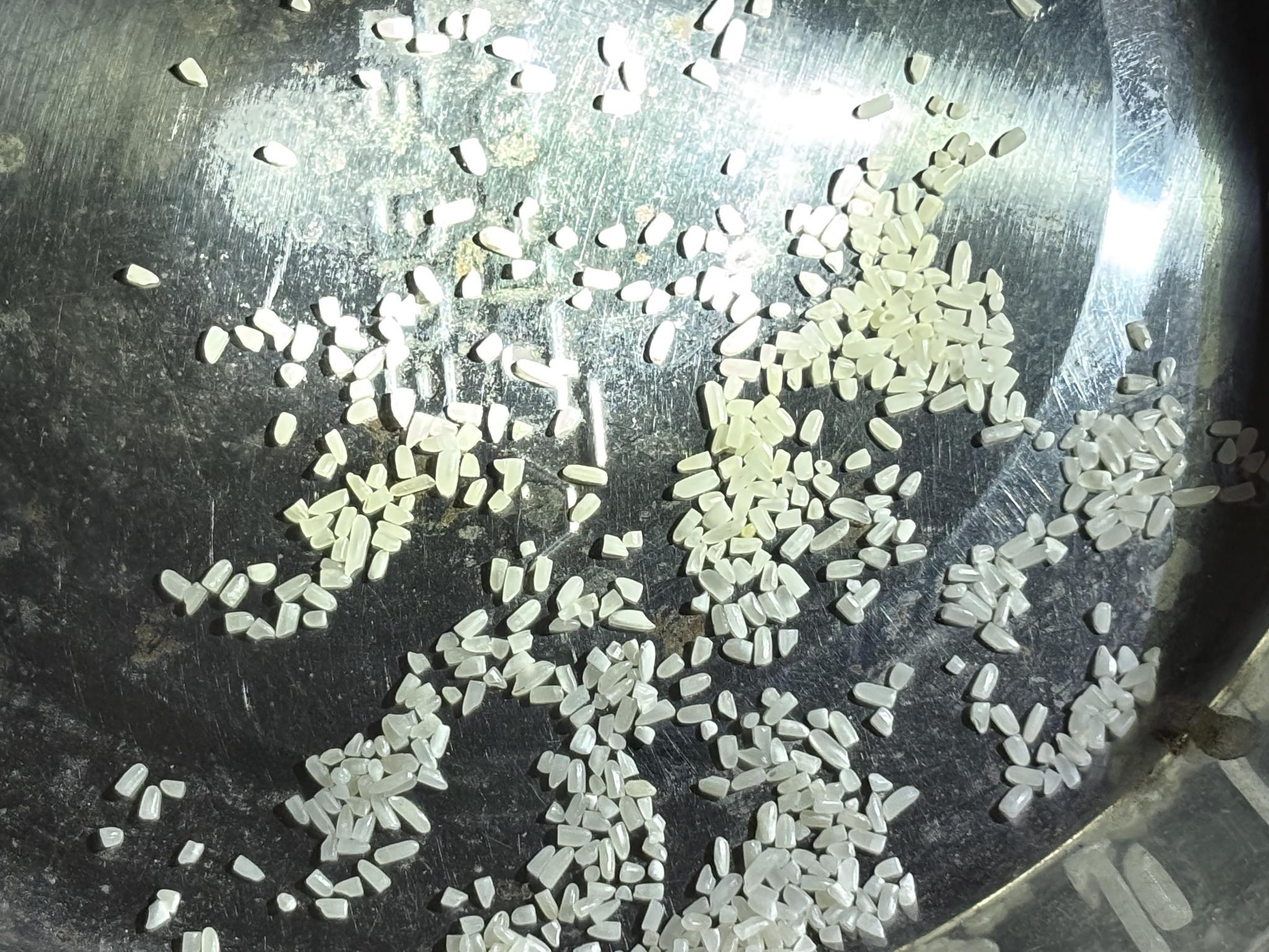Rice-th-y-nh: (740, 842, 788, 897), (340, 513, 379, 577), (515, 352, 567, 396), (719, 312, 763, 361), (806, 727, 852, 771), (672, 464, 720, 506), (511, 655, 555, 700), (389, 791, 432, 837), (841, 329, 895, 365), (537, 844, 576, 892), (700, 0, 748, 39), (430, 446, 465, 499), (361, 769, 417, 802), (431, 192, 477, 232), (828, 161, 866, 209), (698, 379, 733, 431), (1170, 478, 1220, 514), (706, 870, 744, 917), (943, 240, 977, 292), (716, 17, 751, 65), (374, 834, 419, 871), (388, 468, 435, 502), (718, 351, 762, 387), (749, 800, 784, 845), (411, 262, 446, 307), (1144, 493, 1178, 539), (635, 695, 677, 732), (287, 320, 322, 364), (980, 415, 1024, 450), (882, 783, 921, 822), (928, 379, 967, 418), (697, 565, 735, 605), (645, 319, 678, 365), (907, 232, 941, 276), (387, 384, 420, 429), (779, 521, 817, 560), (1094, 434, 1128, 476), (199, 324, 233, 365), (402, 408, 435, 450), (356, 857, 393, 894), (596, 658, 633, 695), (482, 400, 513, 444), (980, 621, 1021, 654), (480, 909, 512, 951), (462, 5, 495, 45), (551, 402, 584, 442), (696, 263, 729, 303), (853, 679, 897, 709), (819, 210, 851, 251), (598, 759, 629, 801), (763, 691, 799, 727), (506, 598, 542, 634), (1055, 732, 1092, 767), (1095, 521, 1133, 555), (829, 496, 872, 526), (728, 485, 757, 529), (592, 837, 621, 881), (610, 694, 641, 735), (748, 625, 778, 667), (857, 89, 893, 124), (1098, 675, 1135, 709), (769, 813, 802, 851), (643, 210, 675, 249), (272, 600, 304, 639), (459, 679, 490, 719), (868, 415, 903, 450), (803, 202, 837, 238), (731, 762, 767, 796), (670, 507, 703, 544), (777, 562, 810, 599), (729, 288, 762, 325), (554, 883, 583, 925), (615, 795, 647, 833), (559, 682, 591, 720), (867, 353, 899, 391), (656, 913, 687, 952), (678, 223, 709, 262), (881, 216, 912, 255), (634, 640, 662, 683), (848, 826, 888, 856), (498, 564, 528, 604), (798, 320, 832, 355), (114, 763, 148, 798), (200, 558, 233, 594), (829, 283, 865, 316), (303, 754, 336, 790), (747, 504, 778, 542), (796, 408, 827, 446), (380, 748, 419, 778), (709, 836, 736, 879), (605, 822, 634, 862), (453, 607, 489, 639), (473, 330, 505, 366), (873, 881, 901, 922), (828, 710, 859, 747), (737, 590, 768, 627), (915, 191, 945, 229), (714, 732, 743, 771), (959, 591, 993, 624), (453, 651, 488, 683), (302, 583, 338, 614), (1077, 465, 1113, 496), (677, 698, 713, 729), (528, 679, 565, 709), (771, 583, 801, 620), (544, 752, 573, 790), (562, 757, 590, 796), (994, 556, 1027, 589), (722, 633, 754, 667), (756, 590, 788, 624), (410, 737, 441, 772), (526, 844, 557, 879), (568, 722, 599, 757), (1005, 763, 1045, 790), (813, 822, 849, 852), (1022, 703, 1049, 743), (1090, 644, 1120, 680), (676, 447, 713, 476), (834, 856, 863, 893), (971, 662, 999, 700), (570, 491, 602, 524), (989, 703, 1021, 736), (620, 275, 653, 307), (409, 712, 443, 743), (750, 391, 781, 425), (530, 554, 557, 593), (532, 886, 562, 921), (315, 892, 350, 922), (869, 190, 898, 226), (776, 769, 812, 798), (271, 410, 300, 446), (1053, 752, 1081, 789), (926, 357, 953, 395), (753, 416, 785, 448), (178, 55, 209, 88), (589, 896, 622, 927), (852, 279, 883, 312), (1012, 542, 1047, 571), (552, 662, 581, 697), (961, 377, 989, 413), (807, 351, 835, 387), (899, 209, 927, 245), (683, 540, 711, 576), (427, 722, 454, 759), (485, 556, 512, 593), (866, 517, 898, 548), (907, 283, 938, 315), (643, 285, 673, 318), (723, 602, 749, 640), (316, 294, 345, 328), (764, 757, 798, 786), (596, 587, 625, 621), (818, 316, 847, 350), (892, 180, 920, 215), (707, 421, 735, 456), (1073, 438, 1101, 473), (639, 898, 667, 933), (941, 603, 978, 629), (1156, 416, 1187, 447), (377, 315, 408, 346), (774, 327, 805, 358), (344, 471, 374, 503), (656, 650, 686, 682), (392, 296, 421, 329), (786, 201, 814, 235), (898, 343, 932, 371), (471, 875, 499, 909), (332, 504, 359, 539), (376, 518, 412, 544), (723, 413, 749, 449), (332, 804, 358, 840), (625, 775, 657, 804), (1002, 735, 1031, 767), (762, 862, 791, 894), (326, 343, 355, 375), (1061, 480, 1089, 513), (632, 878, 666, 905), (790, 449, 817, 483), (394, 671, 421, 705), (1003, 389, 1030, 423), (1089, 601, 1116, 635), (852, 579, 882, 609), (856, 911, 887, 940), (586, 743, 613, 776), (737, 743, 770, 770), (762, 362, 788, 396), (966, 303, 992, 337), (738, 837, 764, 871), (858, 545, 892, 571), (562, 792, 588, 826), (1233, 425, 1259, 459), (336, 834, 370, 860), (768, 447, 793, 482), (569, 702, 597, 733), (428, 412, 459, 440), (538, 918, 565, 950), (745, 476, 778, 502), (706, 604, 732, 637), (880, 249, 913, 275), (799, 808, 833, 833), (510, 254, 538, 284), (717, 452, 745, 482), (774, 505, 804, 533), (726, 393, 756, 421), (462, 477, 489, 508), (581, 808, 612, 835), (443, 643, 475, 669), (925, 331, 950, 364), (750, 723, 775, 756), (756, 559, 780, 593), (853, 178, 881, 207), (509, 901, 538, 929), (506, 627, 534, 656), (594, 792, 621, 822), (779, 347, 810, 373), (614, 750, 640, 781), (618, 859, 646, 887), (720, 372, 746, 402), (341, 753, 371, 779), (442, 10, 467, 41), (724, 147, 749, 178), (826, 881, 854, 908), (697, 488, 725, 515), (847, 306, 874, 334), (918, 300, 945, 328), (377, 290, 403, 319), (681, 894, 710, 920), (864, 488, 894, 513), (749, 546, 773, 577), (758, 494, 790, 517), (694, 863, 717, 895), (156, 887, 183, 914), (972, 580, 998, 608), (457, 452, 483, 480), (457, 911, 485, 937), (196, 926, 224, 952), (579, 661, 604, 690), (1060, 454, 1084, 484), (698, 925, 724, 952), (839, 327, 866, 353), (714, 557, 739, 585), (835, 375, 860, 403), (1215, 438, 1240, 466), (922, 264, 951, 288), (620, 637, 643, 667), (814, 796, 845, 818), (1240, 449, 1267, 474), (766, 736, 790, 764), (960, 278, 988, 302), (342, 732, 366, 759), (780, 858, 804, 885), (894, 517, 918, 544), (556, 599, 583, 623), (756, 341, 779, 369), (328, 534, 350, 563), (595, 712, 617, 741), (488, 635, 512, 661), (854, 889, 878, 915), (571, 286, 595, 312), (634, 795, 657, 822), (683, 525, 706, 551), (788, 482, 811, 508), (706, 539, 729, 565), (379, 367, 401, 394), (920, 162, 942, 189), (791, 817, 813, 844), (867, 772, 894, 794), (159, 778, 187, 799), (818, 852, 842, 876), (633, 723, 657, 747), (535, 749, 557, 775), (524, 933, 554, 952), (785, 365, 806, 392), (807, 904, 828, 931), (606, 730, 629, 754), (1033, 429, 1057, 452), (1076, 407, 1100, 430), (364, 757, 385, 783), (463, 932, 490, 952), (718, 903, 740, 927), (805, 497, 827, 521), (699, 718, 720, 743), (329, 765, 352, 787), (441, 684, 463, 707), (372, 734, 393, 758), (691, 590, 712, 614), (586, 773, 607, 796), (943, 581, 968, 600), (563, 484, 581, 510), (740, 710, 762, 731), (932, 148, 953, 170), (612, 884, 634, 904), (779, 470, 799, 491), (591, 691, 611, 712), (857, 251, 876, 273), (398, 493, 418, 513), (582, 864, 602, 884), (577, 609, 596, 629), (814, 457, 834, 476), (670, 937, 693, 952)
